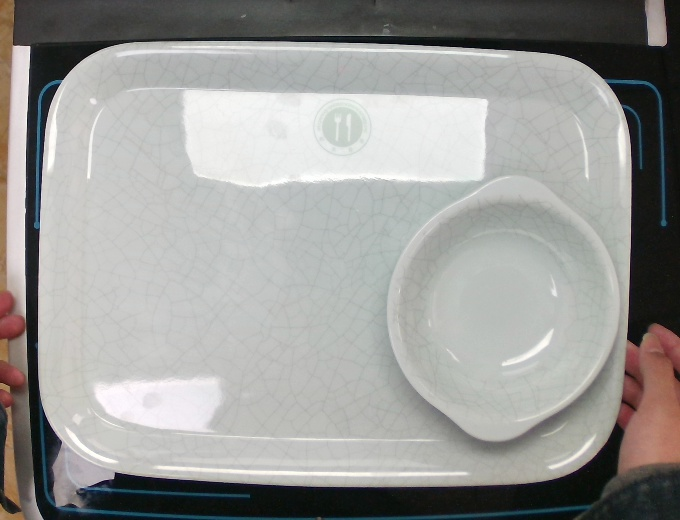JYsf-Shuang_Er_Wan: (385, 172, 622, 444)
